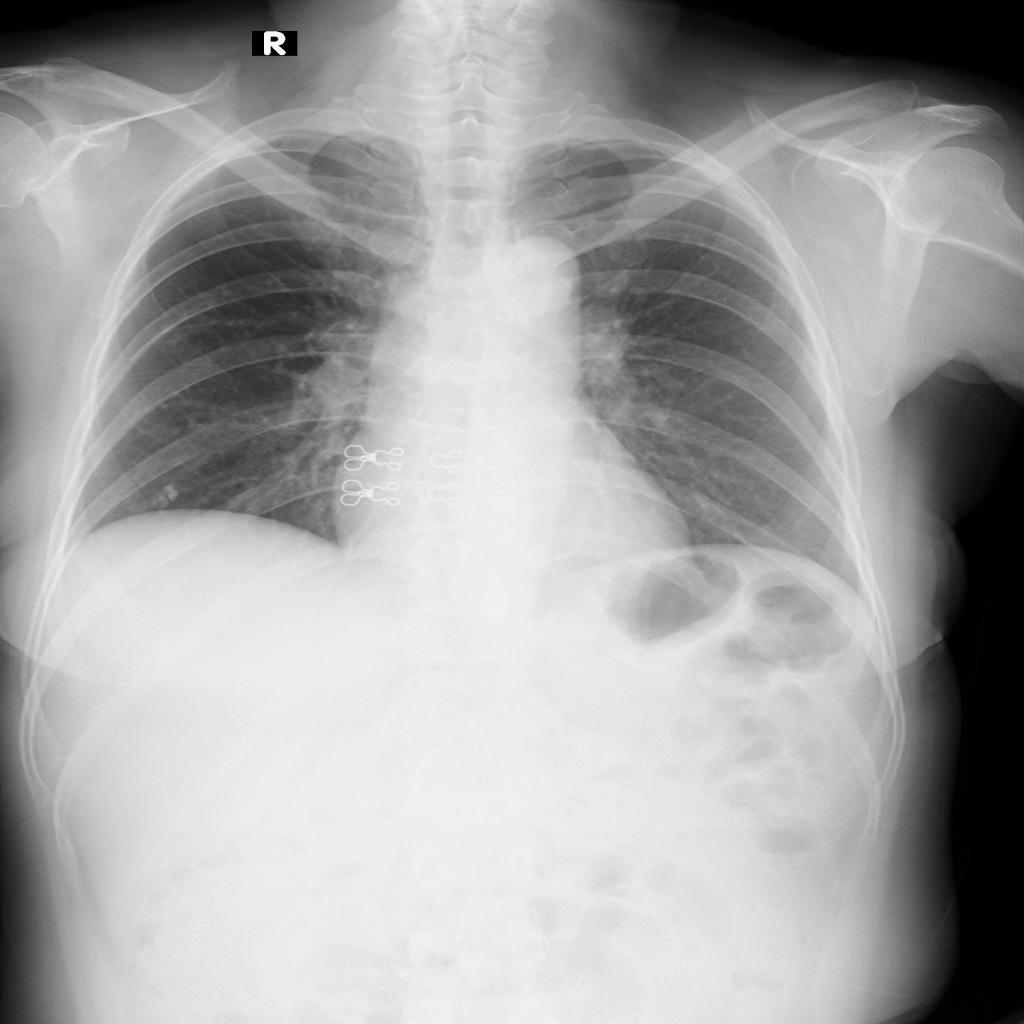Nodule: (153, 483, 180, 512)
